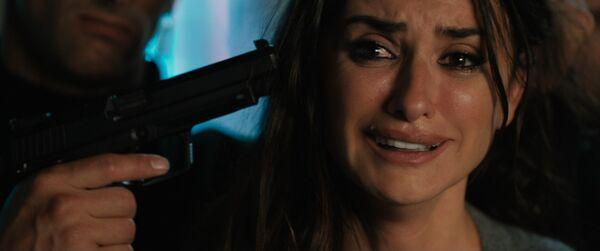Gun: (85, 40, 283, 190)
